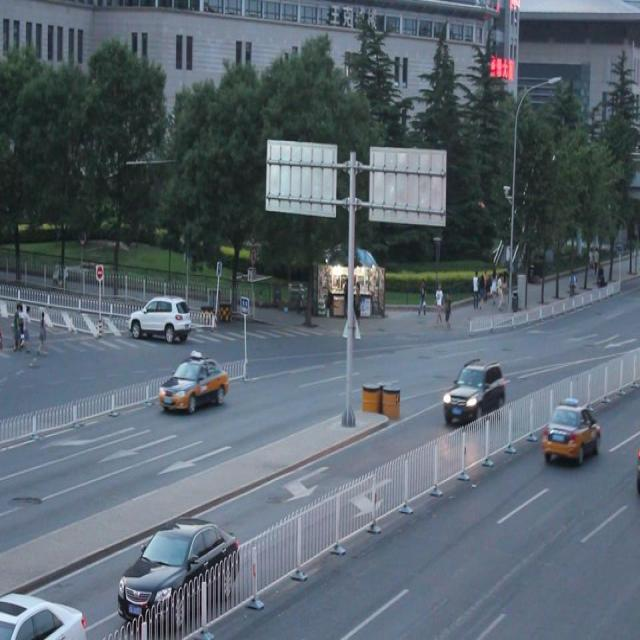car: (118, 518, 240, 632), (159, 357, 229, 417), (0, 592, 86, 640), (440, 361, 505, 422), (540, 402, 598, 464), (128, 295, 193, 345)
